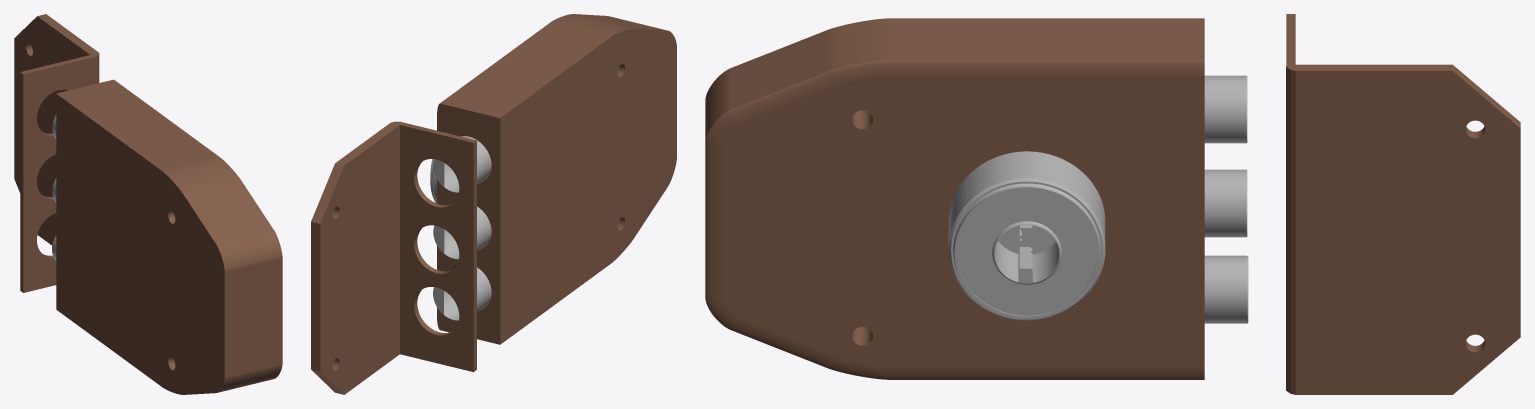
Rendered from Cerrojo.gltf.
3 views of the same model, side by side, from view 1: azimuth 30°, elevation 25°; view 2: azimuth 150°, elevation 25°; view 3: azimuth 270°, elevation 25° (orthographic). The views are drawn at different scales.
Visible parts, largest first — view 1: Cube.002, Cube.001; view 2: Cube.002, Cube.001, Cylinder.001, Cylinder.005, Cylinder.002; view 3: Cube.002, Cube.001, Cylinder, Cylinder.005, Cylinder.001, Cylinder.002, Cylinder.006.
Boxes of the visible parts, <box> form: Cube.002: <box>56,79,282,394</box>; Cube.001: <box>14,14,99,292</box>; Cube.002: <box>437,14,676,344</box>; Cube.001: <box>311,121,476,394</box>; Cylinder.001: <box>433,136,491,192</box>; Cylinder.005: <box>433,267,491,320</box>; Cylinder.002: <box>433,206,491,259</box>; Cube.002: <box>705,18,1204,379</box>; Cube.001: <box>1286,14,1520,394</box>; Cylinder: <box>948,151,1105,320</box>; Cylinder.005: <box>1204,255,1248,323</box>; Cylinder.001: <box>1204,75,1247,143</box>; Cylinder.002: <box>1204,169,1247,237</box>; Cylinder.006: <box>992,221,1061,284</box>.
Bounding box in the file's own units: 2.1 × 4.05 × 9.23.
